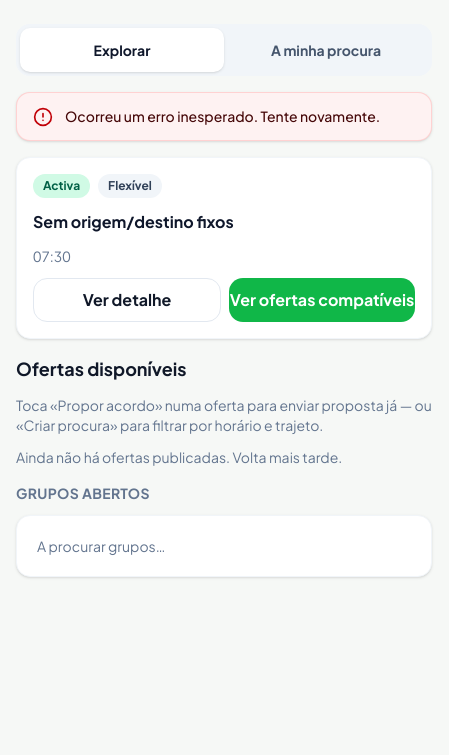
Test case: PACOTE ENG #34 — contra-proposta na proposta recebida › ENG34-1: passageiro vê CTA contra-proposta e distingue valor proposto vs publicado
Click the tab "A minha procura" at (326, 50), box [224, 28, 428, 72]
(page scrolled)
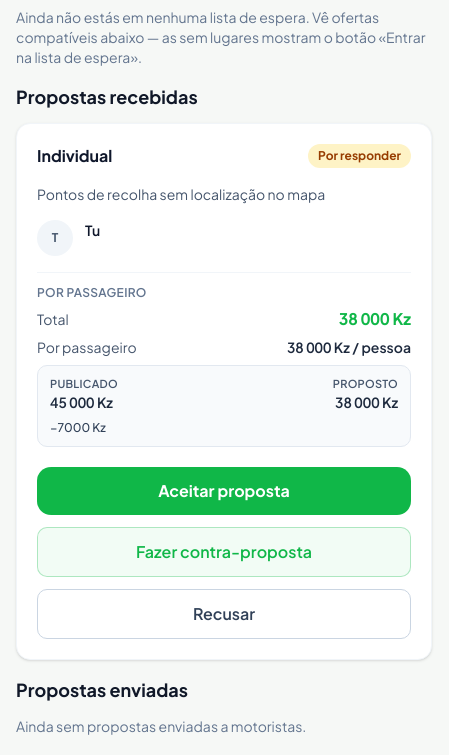
expect the button "Fazer contra-proposta" is shown: met, box [37, 527, 411, 577]
expect the element with test id "preco-publicado-vs-proposto" is shown: met, box [37, 365, 411, 447]
expect the text "Publicado" is shown: met, box [50, 377, 118, 390]
